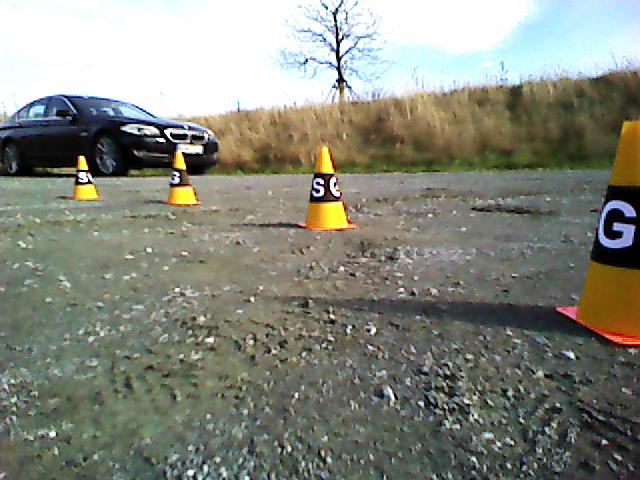yellowcone: (581, 121, 640, 330), (306, 146, 348, 226), (168, 151, 196, 202), (72, 155, 98, 198)
